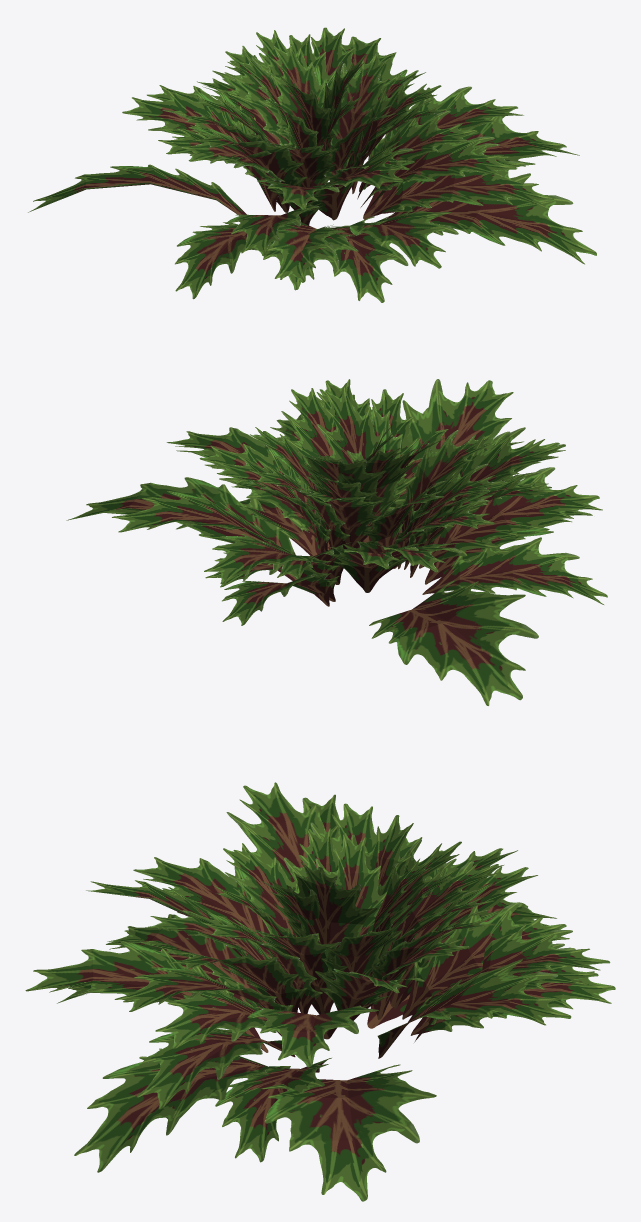
Rendered from plantfiller2.fbx.
The picture shows the model from 3 angles, top to bottom: view 1: azimuth 30°, elevation 25°; view 2: azimuth 150°, elevation 25°; view 3: azimuth 270°, elevation 25°; orthographic projection. The views are drawn at different scales.
Parts seen in each view (by area): view 1: plants.013; view 2: plants.013; view 3: plants.013.
Boxes of the visible parts, x1,y1,x2,y2 form: plants.013: (28,27,596,302); plants.013: (66,379,607,705); plants.013: (25,782,615,1201).
Size of the model in its own units: 944 by 332 by 749.
